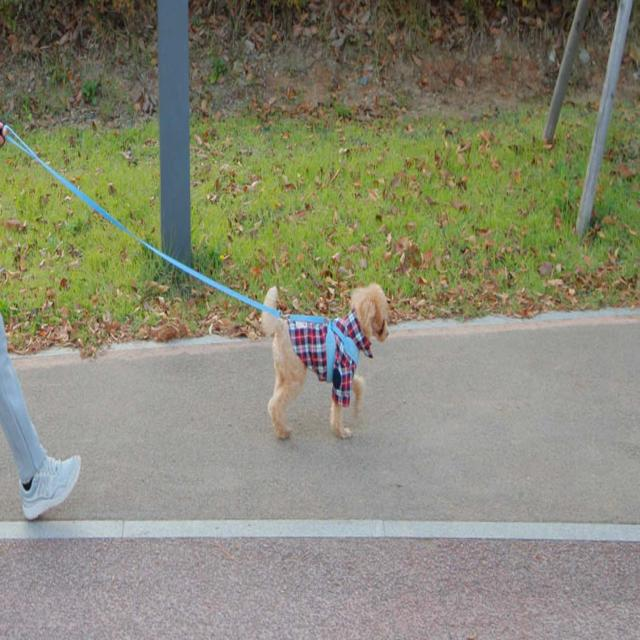Dog: (262, 282, 389, 440)
